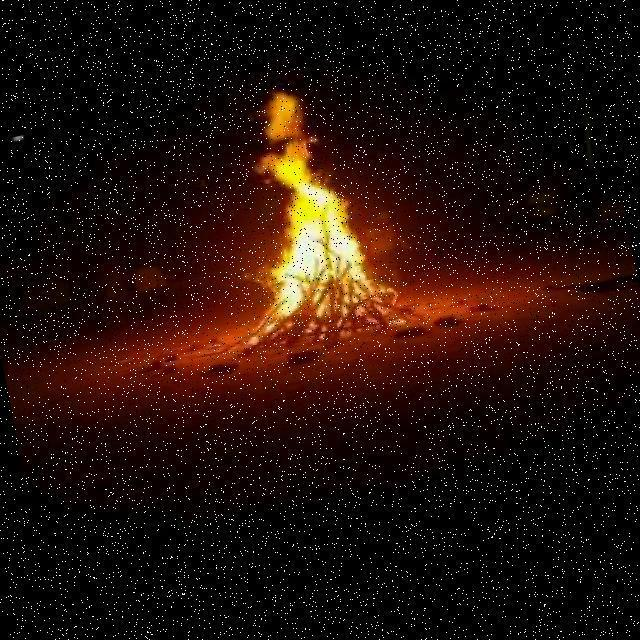fire: (205, 65, 392, 338)
